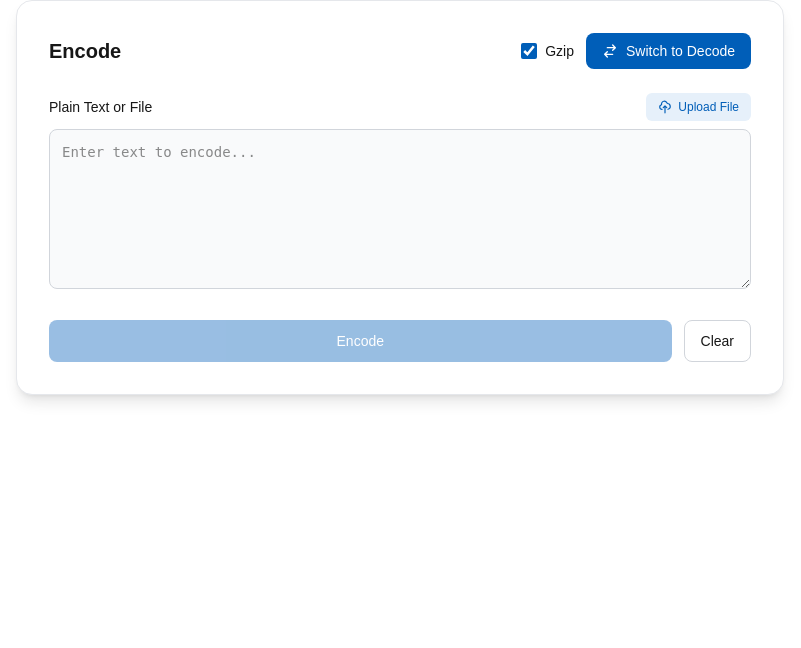
Test: EncoderDecoder › clears input, output and error on clear
The image size is (801, 648).
In the text box with placeholder "Enter text to encode...": {"x": 400, "y": 209} top-left (49, 129), bottom-right (751, 289), type "Hello"
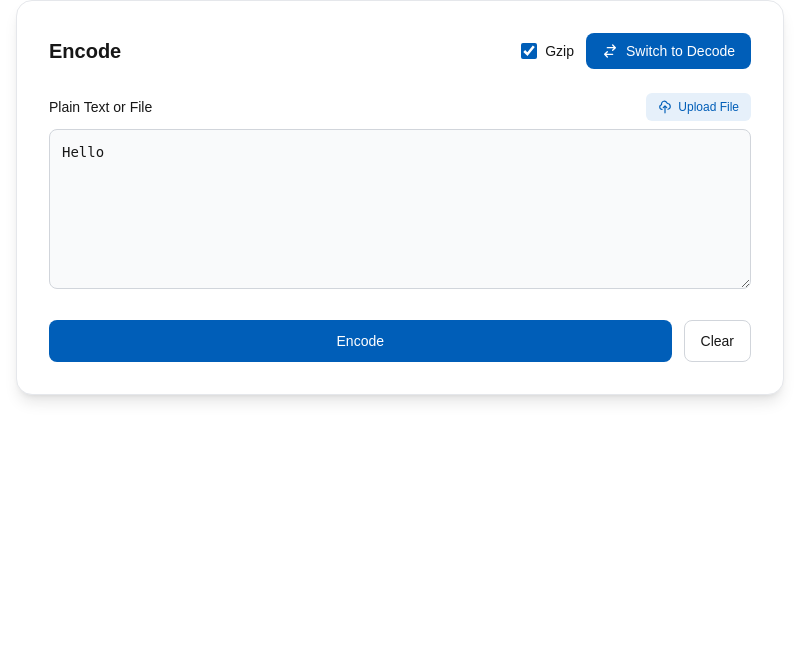
Click the button "Encode": {"x": 360, "y": 341} top-left (49, 320), bottom-right (672, 362)
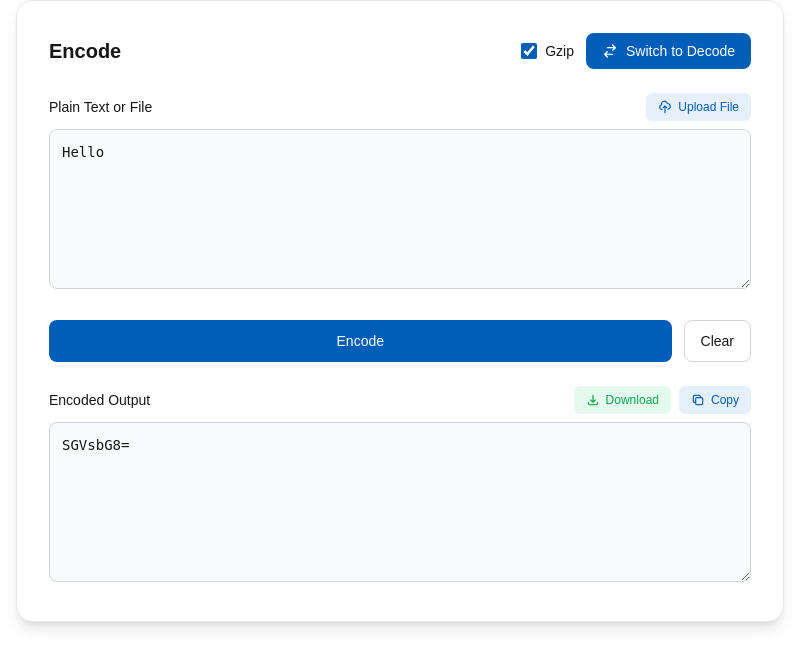
Result: the text box showing "SGVsbG8=" below "Encoded Output" is shown at top-left (49, 422), bottom-right (751, 582)
Click the button "Clear": {"x": 717, "y": 341} top-left (684, 320), bottom-right (751, 362)
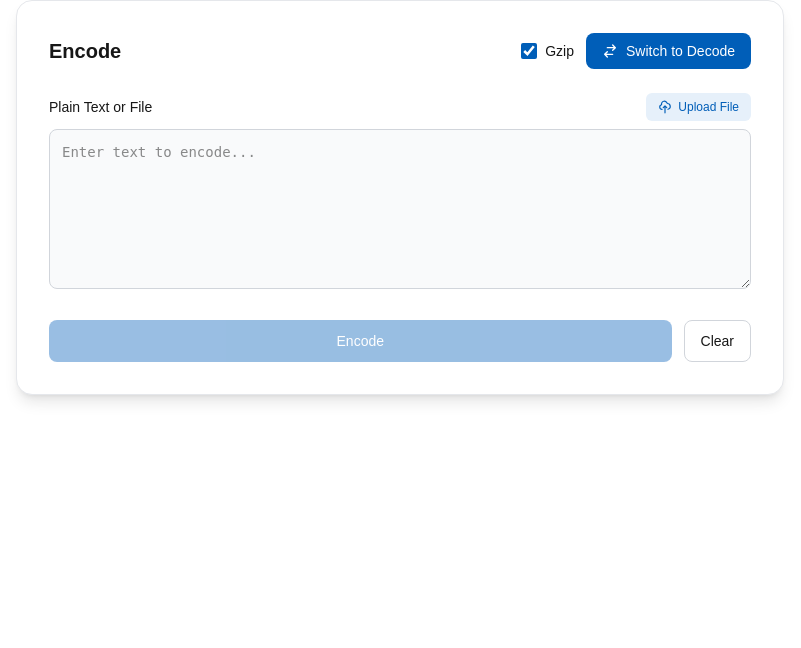
Expected: the field showing "SGVsbG8=" is not shown
Result: the text box with placeholder "Enter text to encode..." is empty at top-left (49, 129), bottom-right (751, 289)
